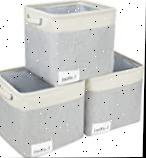cube: (22, 0, 117, 87), (0, 70, 84, 158), (83, 53, 143, 138)
